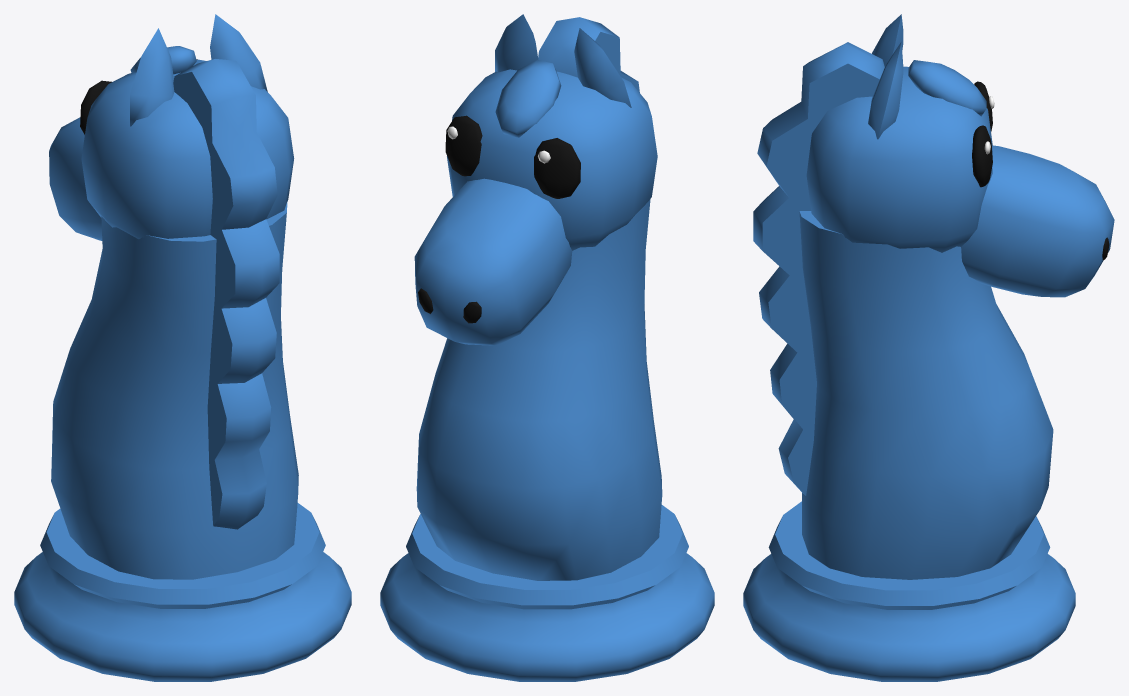
Rendered from personnage_cheval.fbx.
3 renders of one model, left to right at view 1: azimuth 30°, elevation 25°; view 2: azimuth 150°, elevation 25°; view 3: azimuth 270°, elevation 25°, orthographic.
Parts seen in each view (by area): view 1: Corps, OeilDroit; view 2: Corps, OeilDroit, OeilGauche, Narines; view 3: Corps, OeilGauche.
Part boxes in pixels (x1,y1,x2,y2): Corps: [14, 14, 351, 681]; OeilDroit: [80, 80, 111, 134]; Corps: [380, 14, 714, 681]; OeilDroit: [534, 138, 580, 198]; OeilGauche: [445, 115, 482, 176]; Narines: [418, 288, 481, 323]; Corps: [743, 14, 1114, 681]; OeilGauche: [972, 125, 992, 187].
Size of the model in its own units: 1.03 by 2.05 by 1.17.
